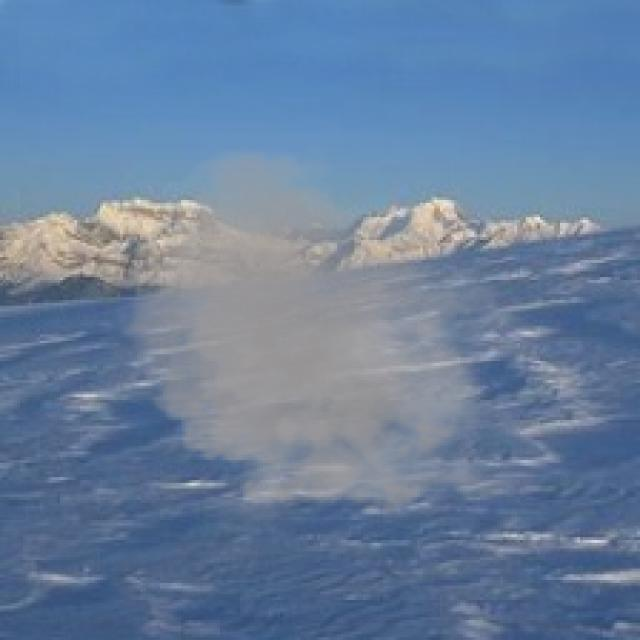Smoke: (103, 137, 520, 534)
